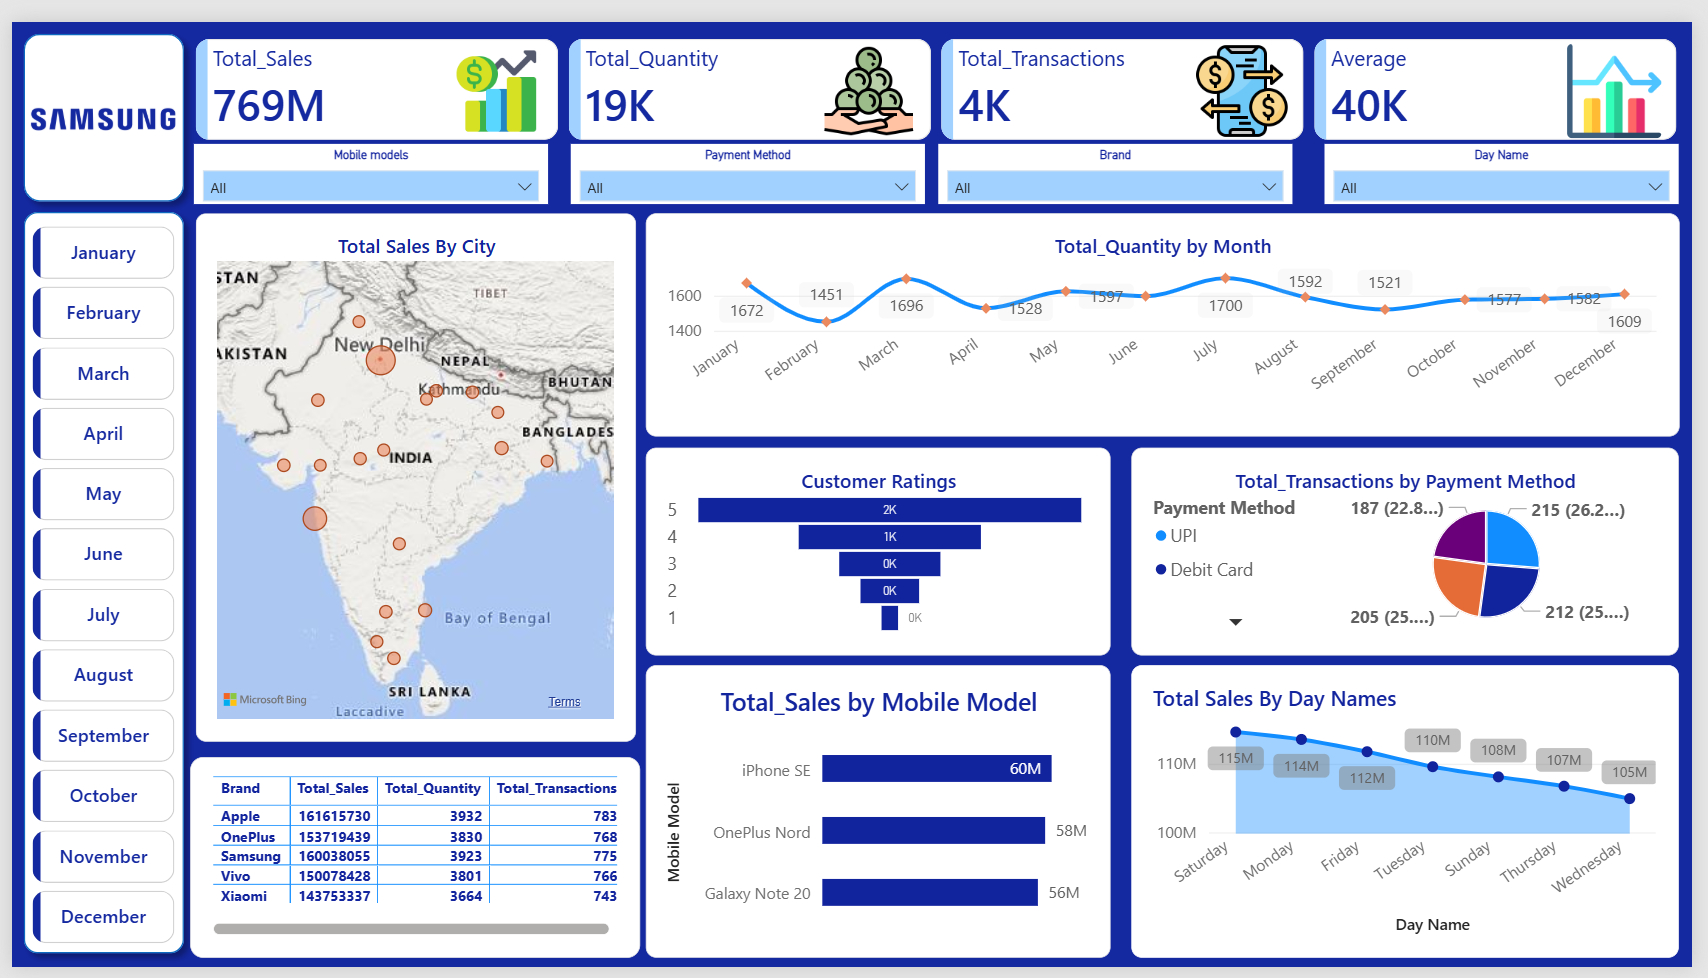

The dashboard page shown, as its layout file describes it:
{"tool":"powerbi","page":{"name":"Page 1","canvas":[1280,720],"ordinal":0},"visuals":[{"type":"shape","box":[0,0,140,145.7],"z":0},{"type":"image","box":[7.5,22.5,125,102.5],"z":1000},{"type":"shape","box":[0,135.7,140,582.9],"z":2000},{"type":"advancedSlicerVisual","fields":{"Values":["Mobile_sales_Data.Date.Variation.Date Hierarchy.Month"]},"box":[15.7,155.7,108.6,550],"z":3000},{"type":"cardVisual","fields":{"Data":["Mobile_sales_Data.Total_Sales","Mobile_sales_Data.Total_Quantity","Mobile_sales_Data.Total_Transactions","Mobile_sales_Data.Average"]},"box":[140,12.9,1130,77.1],"z":4000},{"type":"map","title":"Total Sales By City","fields":{"Category":["Mobile_sales_Data.City"],"Size":["Mobile_sales_Data.Total_Sales"]},"box":[140,145.7,335.7,402.9],"z":5000},{"type":"lineChart","fields":{"Y":["Mobile_sales_Data.Total_Quantity"],"Category":["Mobile_sales_Data.Date.Variation.Date Hierarchy.Month","Mobile_sales_Data.Date.Variation.Date Hierarchy.Day"]},"box":[482.5,145,787.5,170],"z":6000},{"type":"clusteredBarChart","fields":{"Category":["Mobile_sales_Data.Mobile Model"],"Y":["Mobile_sales_Data.Total_Sales"]},"box":[482.9,490,354.3,222.9],"z":7000},{"type":"pieChart","fields":{"Category":["Mobile_sales_Data.Payment Method"],"Y":["Mobile_sales_Data.Total_Transactions"]},"box":[852.9,324.3,417.1,158.6],"z":8000},{"type":"funnel","title":"Customer Ratings ","fields":{"Category":["Mobile_sales_Data.Customer Ratings"],"Y":["Sum(Mobile_sales_Data.Customer Ratings)"]},"box":[482.9,324.3,354.3,158.6],"z":9000},{"type":"areaChart","title":"Total Sales By Day Names","fields":{"Category":["Mobile_sales_Data.Day Name"],"Y":["Mobile_sales_Data.Total_Sales"]},"box":[852.9,490,417.1,222.9],"z":10000},{"type":"tableEx","fields":{"Values":["Mobile_sales_Data.Brand","Mobile_sales_Data.Total_Sales","Mobile_sales_Data.Total_Quantity","Mobile_sales_Data.Total_Transactions"]},"box":[135.7,560,342.9,152.9],"z":11000},{"type":"slicer","title":"Mobile models","fields":{"Values":["Mobile_sales_Data.Mobile Model"]},"box":[138,93,270,46],"z":12000},{"type":"slicer","title":"Payment Method","fields":{"Values":["Mobile_sales_Data.Payment Method"]},"box":[425.7,92.9,270,45.7],"z":12001},{"type":"slicer","title":"Brand","fields":{"Values":["Mobile_sales_Data.Brand"]},"box":[705.7,92.9,270,45.7],"z":12002},{"type":"slicer","title":"Day Name","fields":{"Values":["Mobile_sales_Data.Day Name"]},"box":[1000,92.9,270,45.7],"z":12003}]}

Visuals, with their boxes in screenshot pixels (x1, y1, x2, y2), scaled from the page's 1280x720 canvas onto the 1708x978 screenshot:
shape: 0, 0, 187, 198
image: 10, 31, 177, 170
shape: 0, 184, 187, 976
advancedSlicerVisual - Mobile_sales_Data.Date.Variation.Date Hierarchy.Month: 21, 211, 166, 959
cardVisual - Mobile_sales_Data.Total_Sales x Mobile_sales_Data.Total_Quantity: 187, 18, 1695, 122
"Total Sales By City" map: 187, 198, 635, 745
lineChart - Mobile_sales_Data.Total_Quantity x Mobile_sales_Data.Date.Variation.Date Hierarchy.Month: 644, 197, 1695, 428
clusteredBarChart - Mobile_sales_Data.Mobile Model x Mobile_sales_Data.Total_Sales: 644, 666, 1117, 968
pieChart - Mobile_sales_Data.Payment Method x Mobile_sales_Data.Total_Transactions: 1138, 441, 1695, 656
"Customer Ratings " funnel: 644, 441, 1117, 656
"Total Sales By Day Names" areaChart: 1138, 666, 1695, 968
tableEx - Mobile_sales_Data.Brand x Mobile_sales_Data.Total_Sales: 181, 761, 639, 968
"Mobile models" slicer: 184, 126, 544, 189
"Payment Method" slicer: 568, 126, 928, 188
"Brand" slicer: 942, 126, 1302, 188
"Day Name" slicer: 1334, 126, 1695, 188
